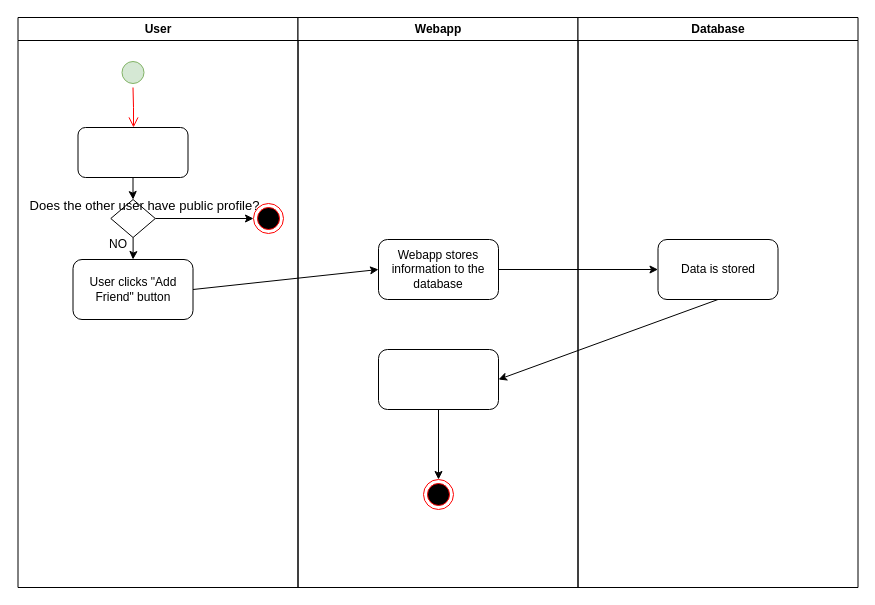
Image size: 875x605. Some labels were removed from this diagram. Here are the shapes that lost their labels. From the top down, the centre of each, then its label:
(132,72): User logged in
(132,152): User checks interested profile
(438,379): Webapp displays information to receiving user
